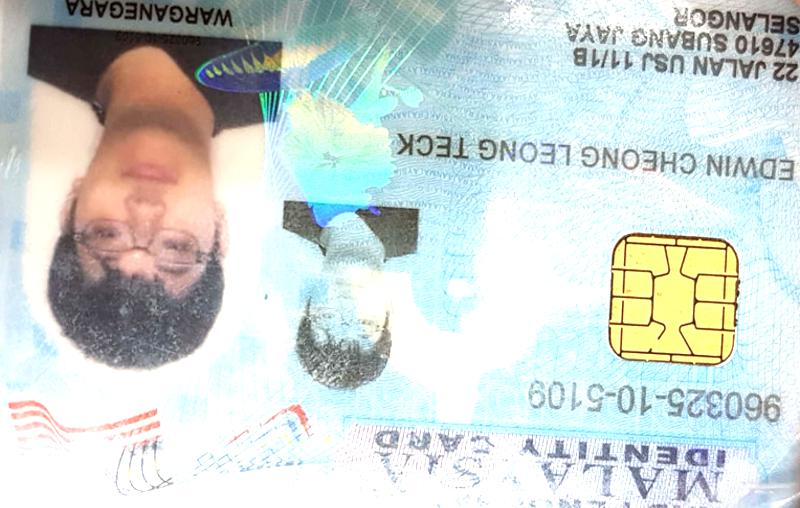hologramB: (280, 85, 397, 202)
